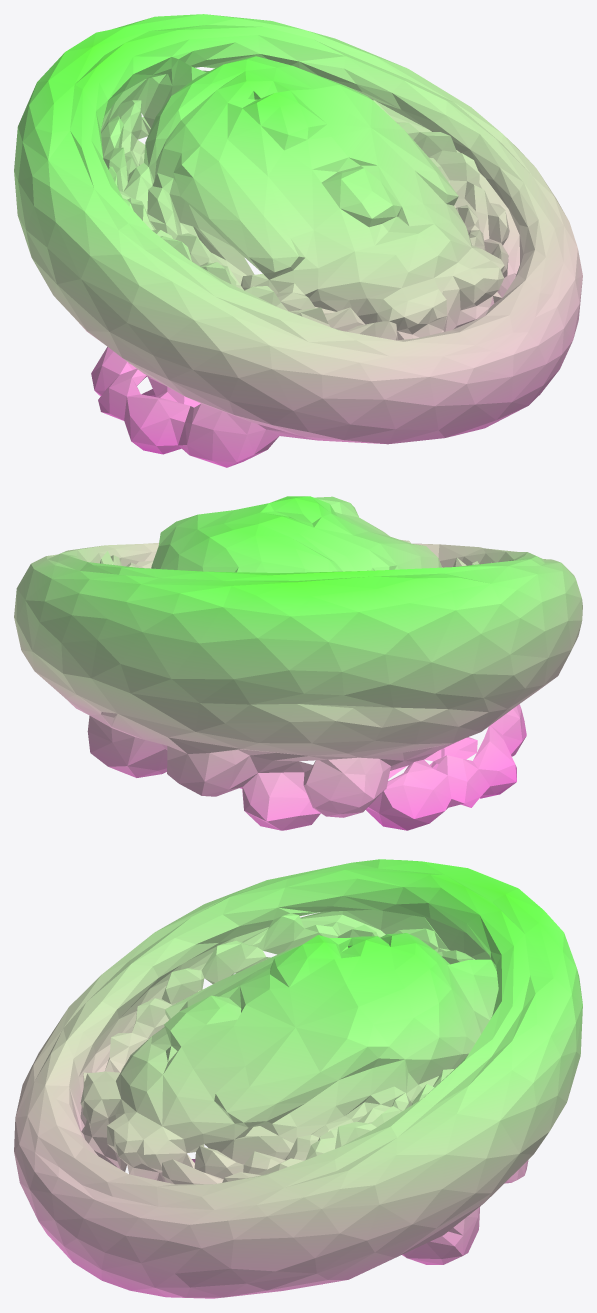
Rendered from 134_cyb_laser_gradient_fish_scales_2928_2026_10_03_189515.glb.
3 renders of one model, top to bottom at view 1: azimuth 30°, elevation 25°; view 2: azimuth 150°, elevation 25°; view 3: azimuth 270°, elevation 25°, orthographic. The views are drawn at different scales.
Parts seen in each view (by area): view 1: geometry_0; view 2: geometry_0; view 3: geometry_0.
Part boxes in pixels (x1,y1,x2,y2): geometry_0: [14, 14, 582, 467]; geometry_0: [14, 496, 582, 830]; geometry_0: [14, 859, 582, 1298].
Bounding box in the file's own units: 1 × 0.5663 × 0.9793.
